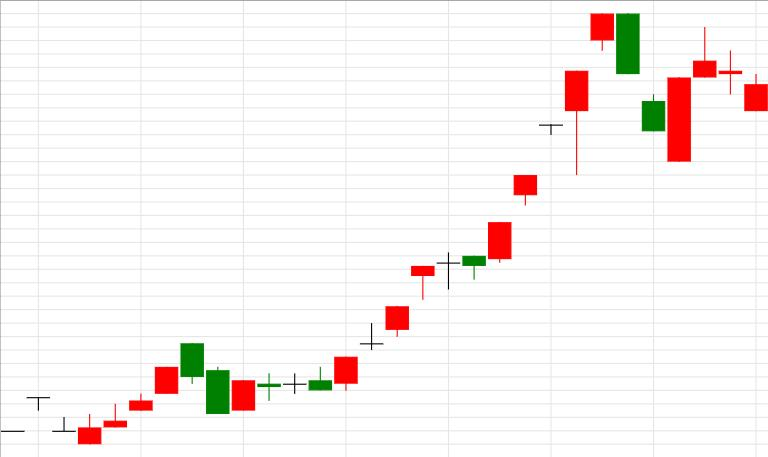bearish_engulfing_fall: (334, 14, 639, 391)
hanging_man_fall: (334, 71, 589, 391)
